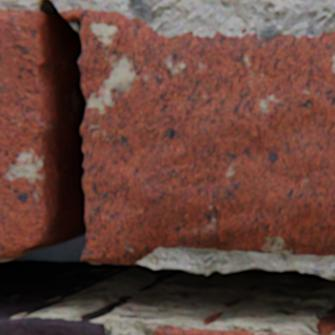brick: (0, 317, 106, 334), (156, 327, 281, 334)
broken_brick: (61, 10, 334, 264), (0, 10, 50, 258)
crack: (0, 0, 334, 334)
